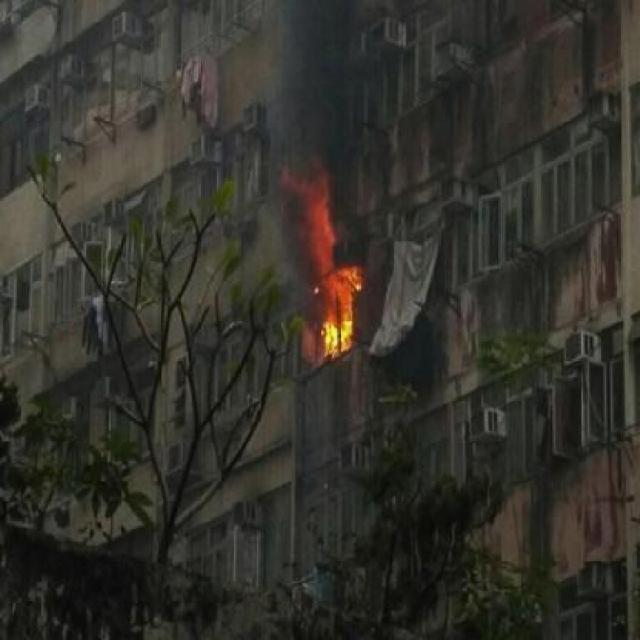Fire: (269, 141, 366, 377)
Smoke: (260, 0, 371, 192)
